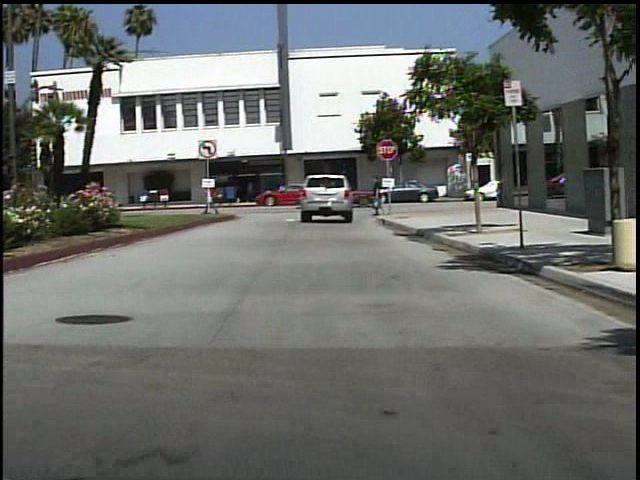person: (197, 178, 227, 219), (371, 174, 390, 220), (251, 179, 252, 204)
